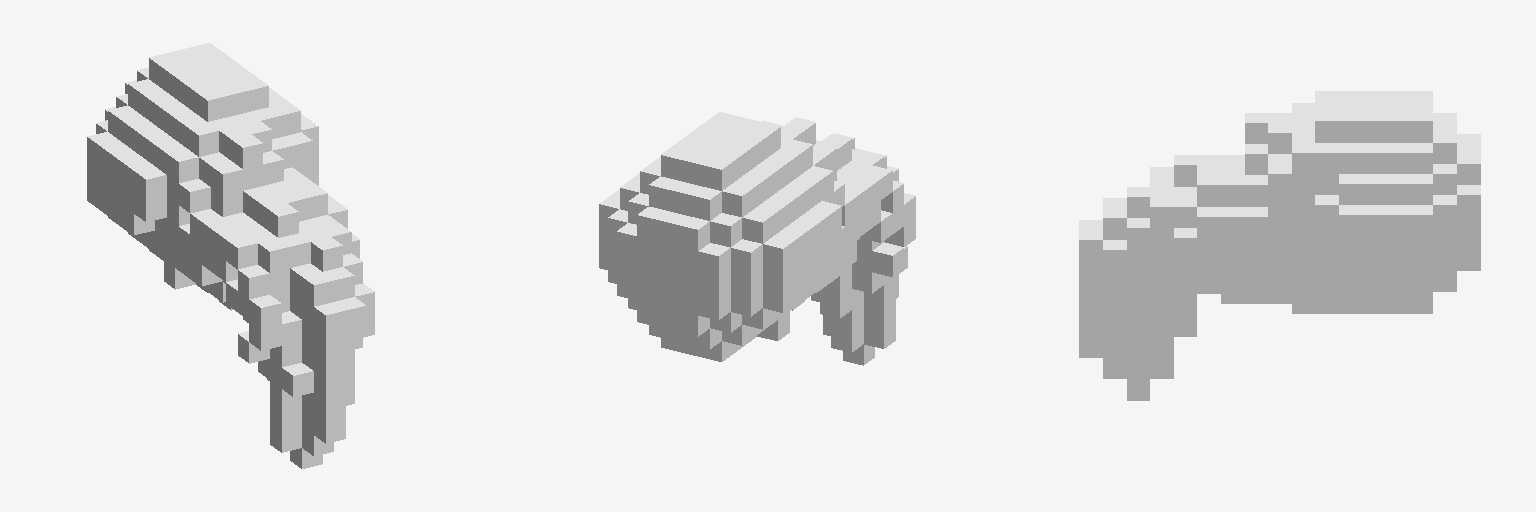
Rendered from enemy-1.obj.
3 renders of one model, left to right at view 1: azimuth 30°, elevation 25°; view 2: azimuth 150°, elevation 25°; view 3: azimuth 270°, elevation 25°, orthographic.
Parts seen in each view (by area): view 1: object 1; view 2: object 1; view 3: object 1.
Part boxes in pixels (x1,y1,x2,y2): object 1: (87, 43, 374, 468); object 1: (599, 112, 915, 365); object 1: (1079, 91, 1480, 400).
Bounding box in the file's own units: 0.9 × 1.4 × 1.7.